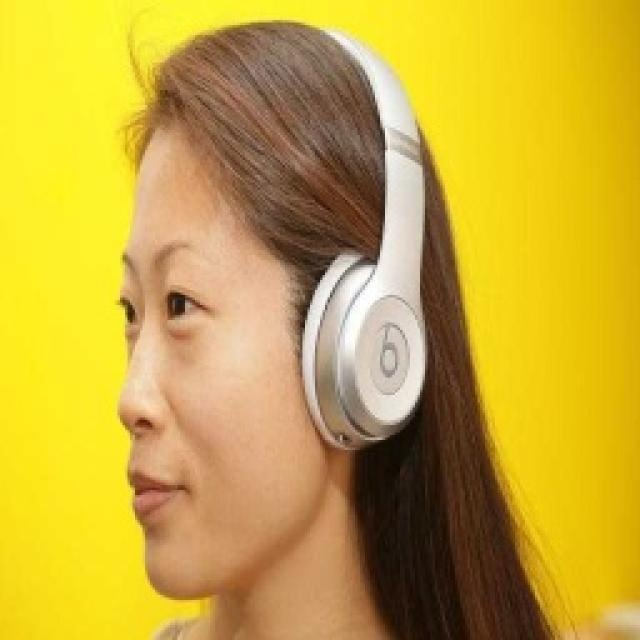headphones: (298, 22, 428, 452)
